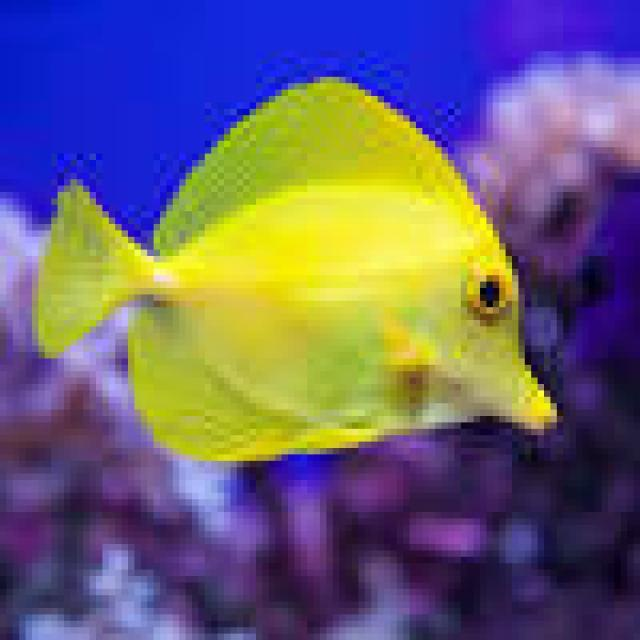YellowTang: (27, 69, 576, 480)
